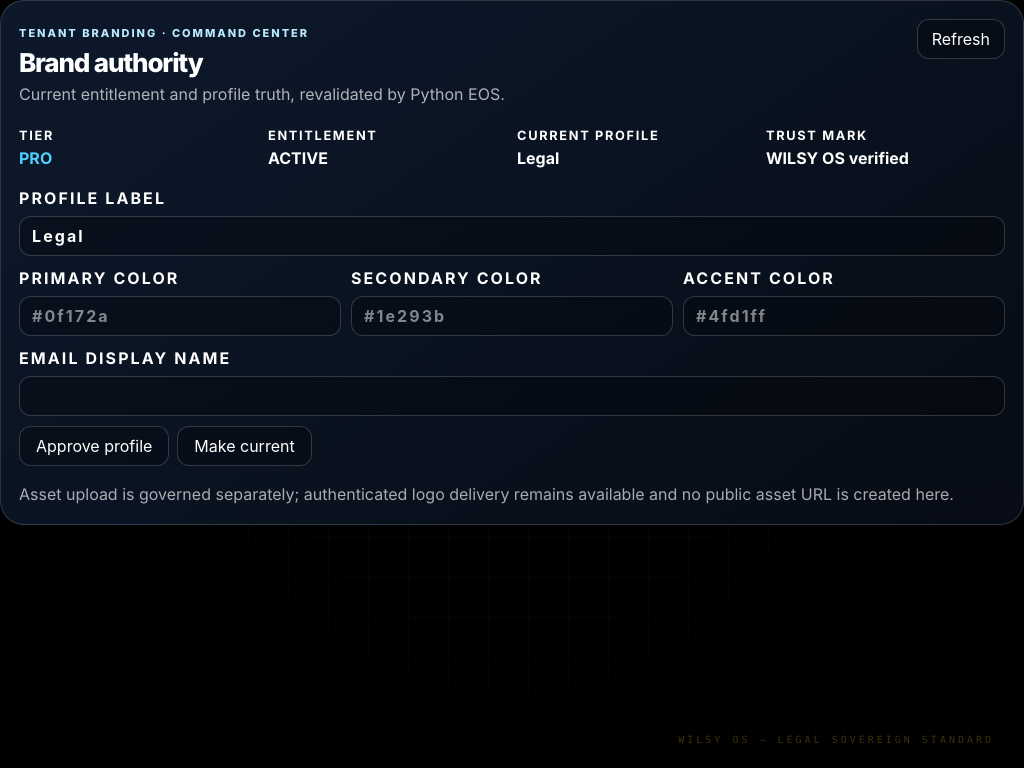
Scenario: tenant branding management panel › announces activation only after current selection and authoritative refresh request
Click the button "Make current": (244,446) [177,426,312,466]
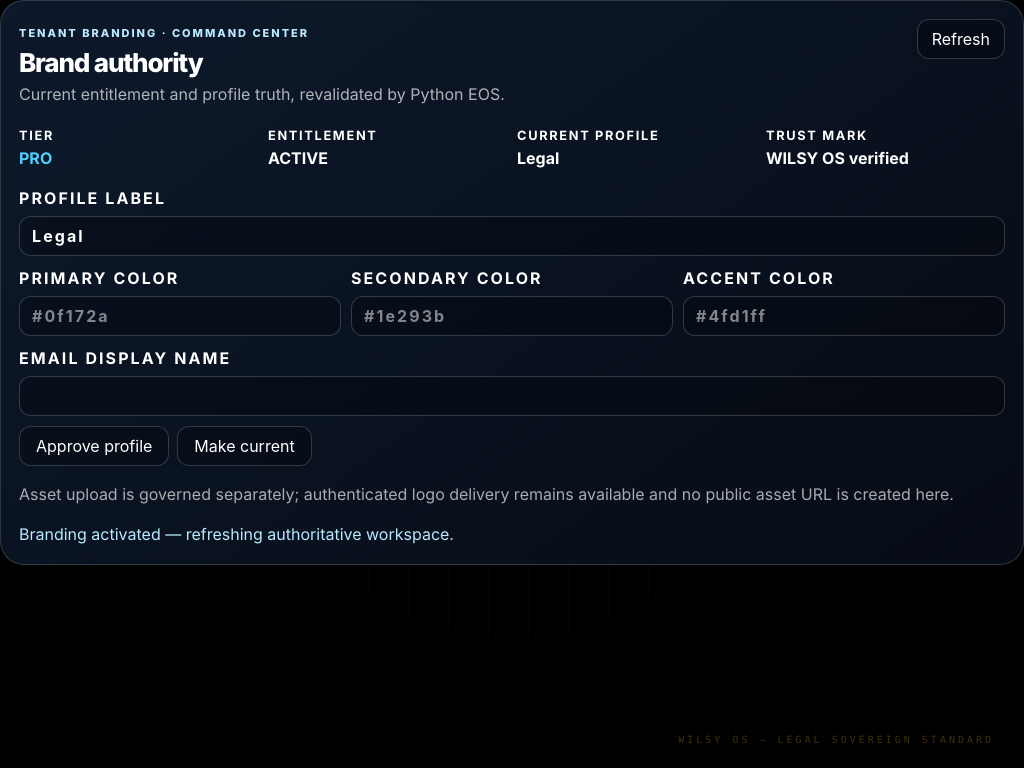
Result: the text "Branding activated — refreshing authoritative workspace." is shown at [19,524,454,544]
